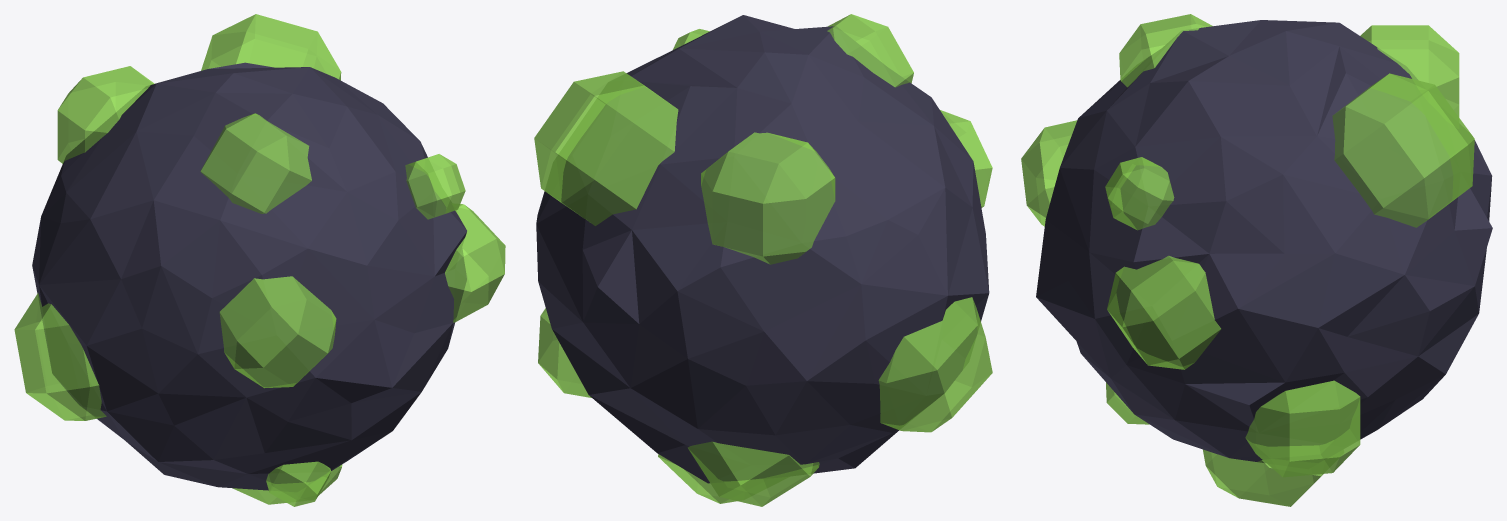
File: ore_planet4.fbx
3 renders of one model, left to right at view 1: azimuth 30°, elevation 25°; view 2: azimuth 150°, elevation 25°; view 3: azimuth 270°, elevation 25°, orthographic. The views are drawn at different scales.
Visible parts, largest first — view 1: ore_planet4; view 2: ore_planet4; view 3: ore_planet4.
Boxes of the visible parts, left/top/right/bottom form: ore_planet4: left=14, top=14, right=505, bottom=506; ore_planet4: left=534, top=14, right=992, bottom=506; ore_planet4: left=1021, top=14, right=1492, bottom=506.
Size of the model in its own units: 208 by 210 by 199.
